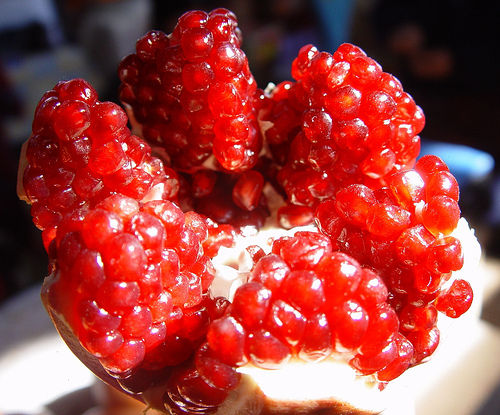pomogranate: (20, 8, 482, 412)
